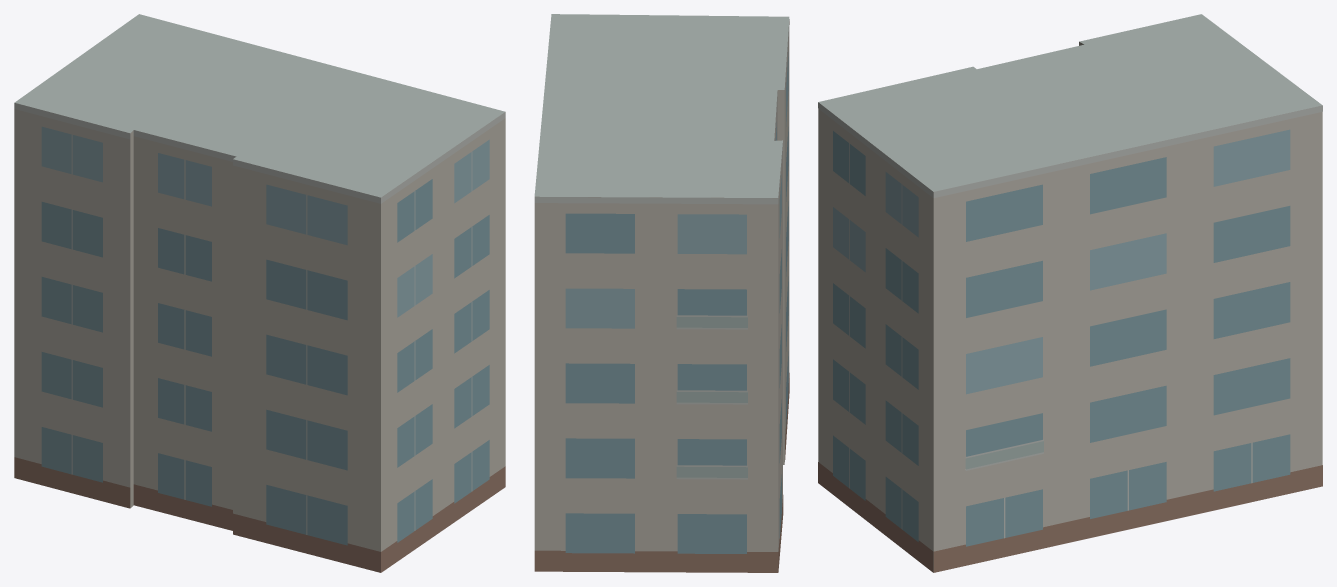
File: survey-upis-32894154.glb
3 views of the same model, side by side, from view 1: azimuth 30°, elevation 25°; view 2: azimuth 150°, elevation 25°; view 3: azimuth 270°, elevation 25° (orthographic).
Visible parts, largest first — view 1: survey-upis-32894154.tmp; view 2: survey-upis-32894154.tmp; view 3: survey-upis-32894154.tmp.
Part boxes in pixels (x1,y1,x2,y2): survey-upis-32894154.tmp: (14,14,505,572); survey-upis-32894154.tmp: (534,14,789,572); survey-upis-32894154.tmp: (818,14,1322,572).
Bounding box in the file's own units: 14.63 × 14.6 × 17.54.
